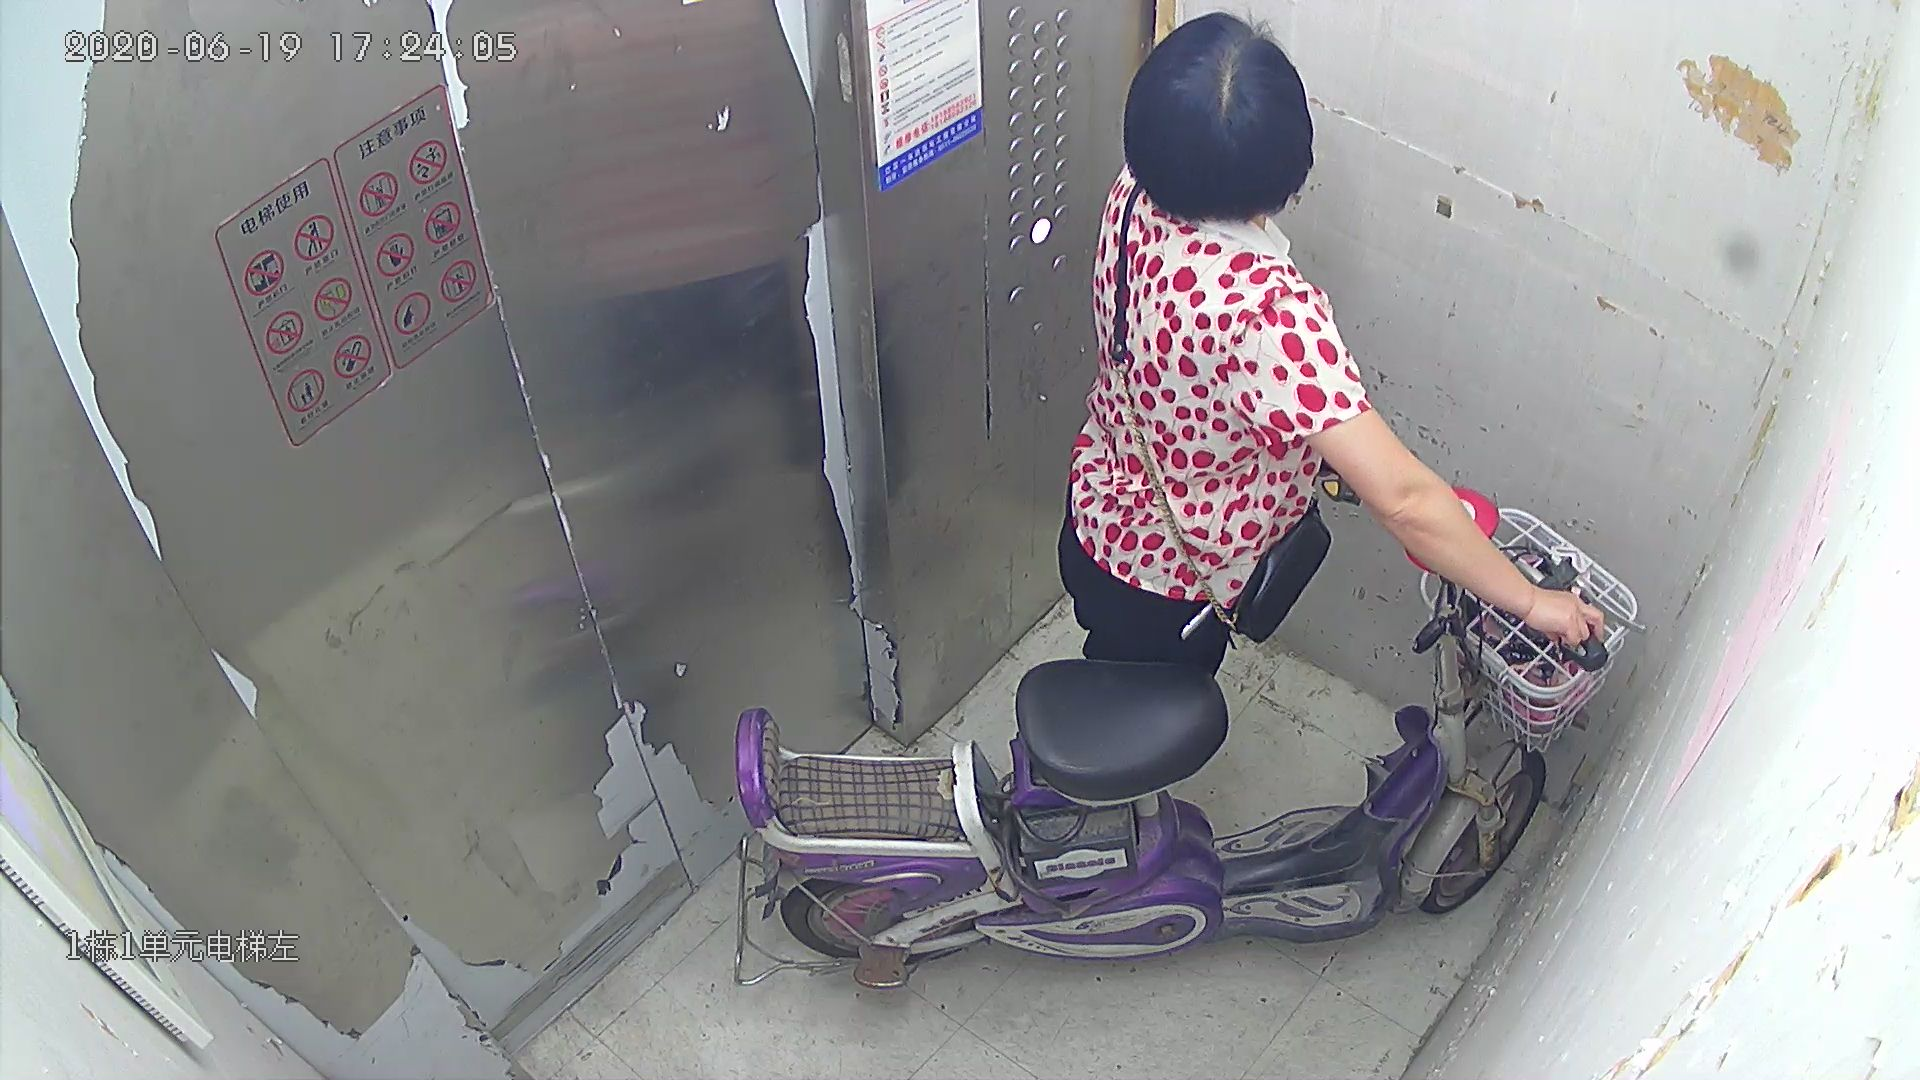Electric-bicycle: (728, 498, 1636, 984)
